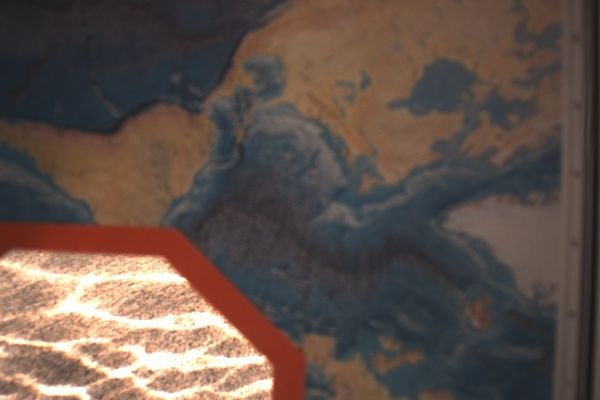torpille: (0, 0, 600, 400)
torpille_target: (0, 222, 305, 400)
